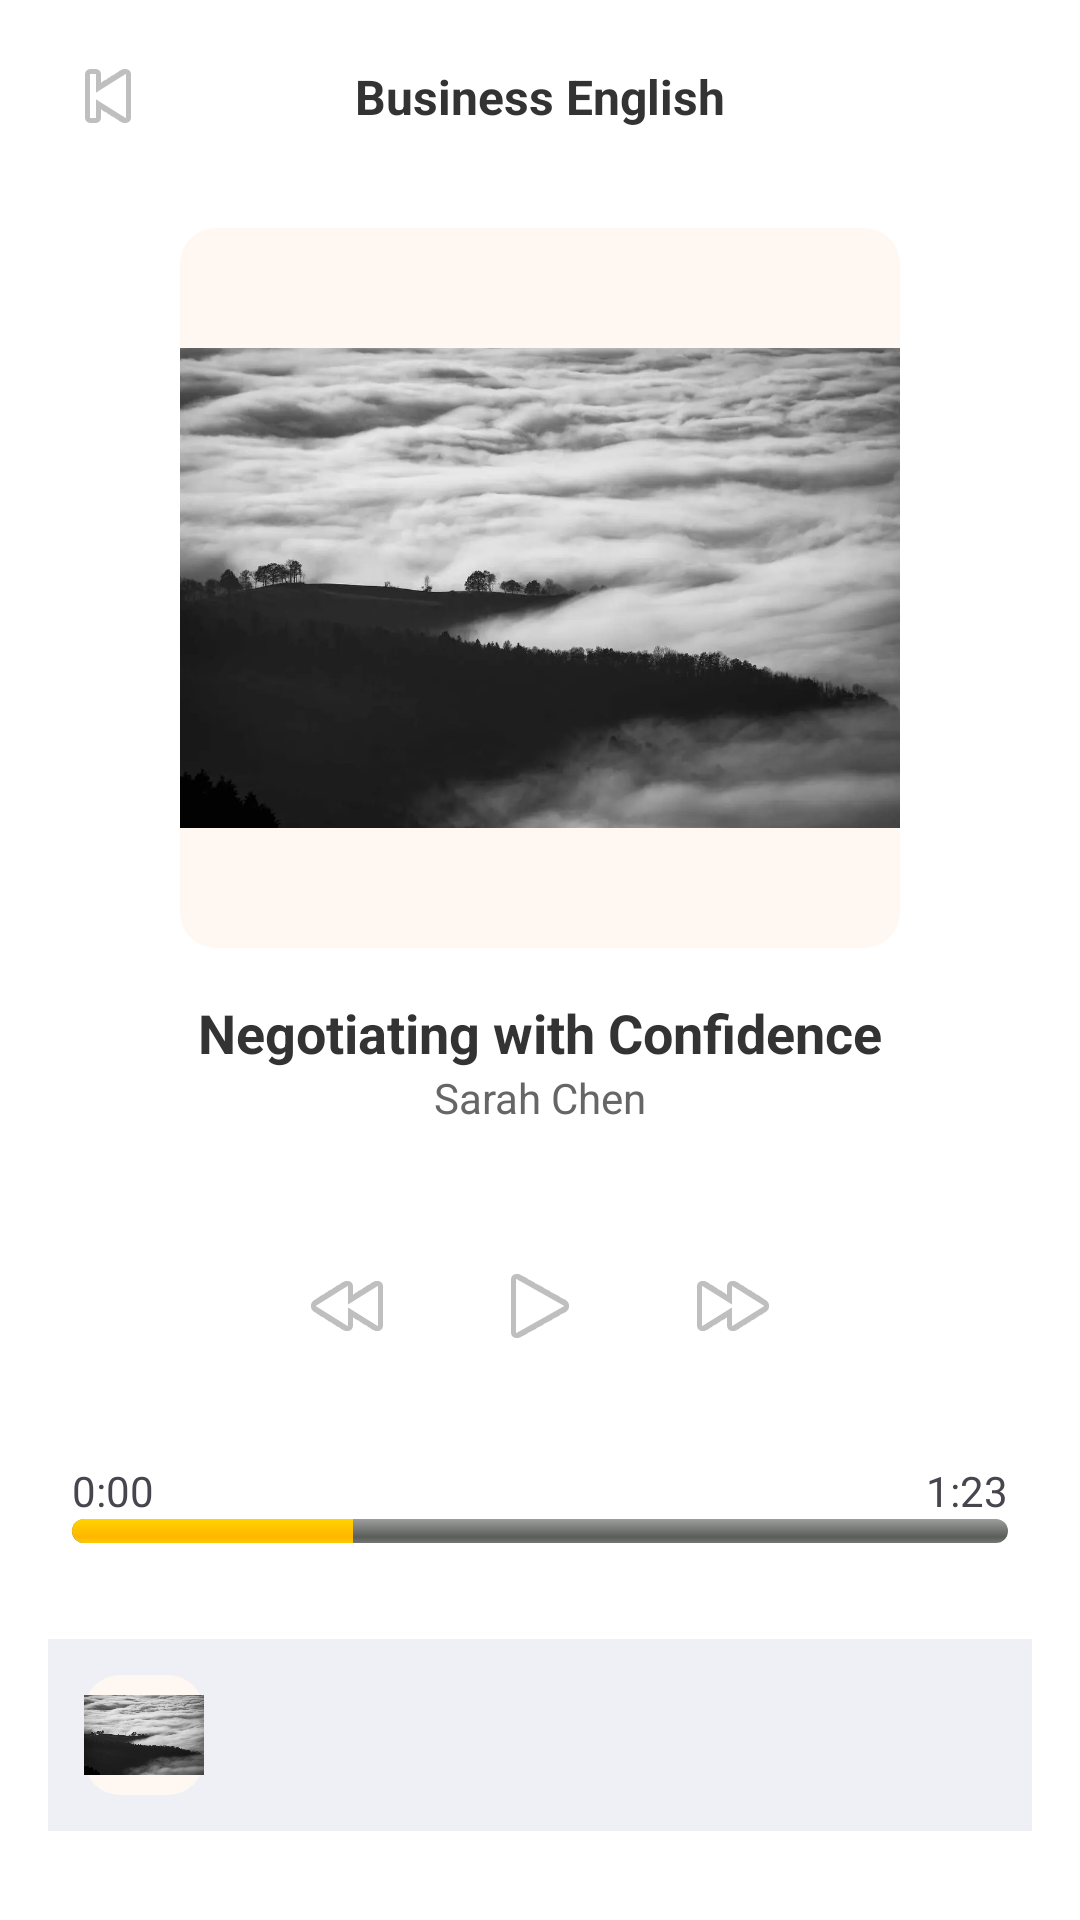

Where icons sit on this 1080px×1920px app screen, as (x1, y1, x2, y2):
Back: (85, 69, 131, 123)
play: (511, 1274, 569, 1338)
rew: (311, 1281, 383, 1331)
